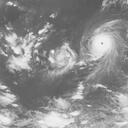cyclone: (82, 25, 122, 64), (45, 43, 78, 74)
